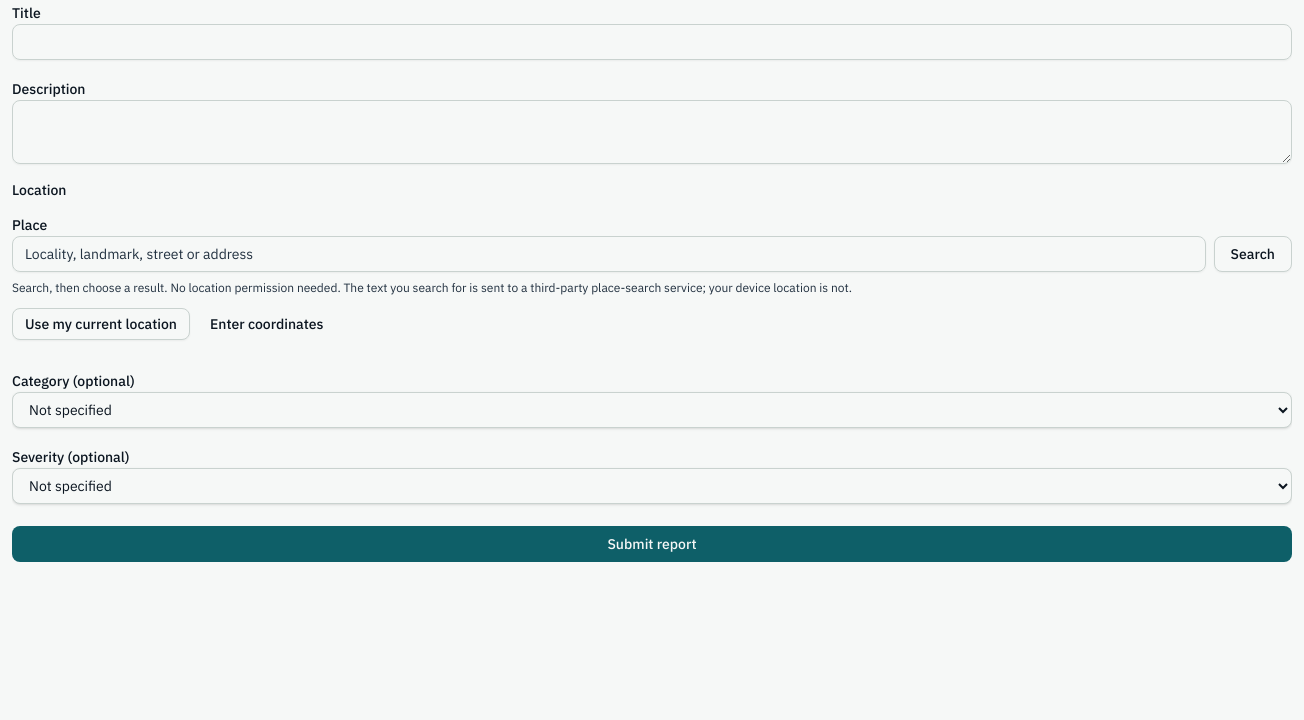
Test case: IssueReportForm › API/domain failure: shows message, preserves input
In the field labelled "Title": (652, 42) x1=12 y1=24 x2=1292 y2=60, type "Leak"
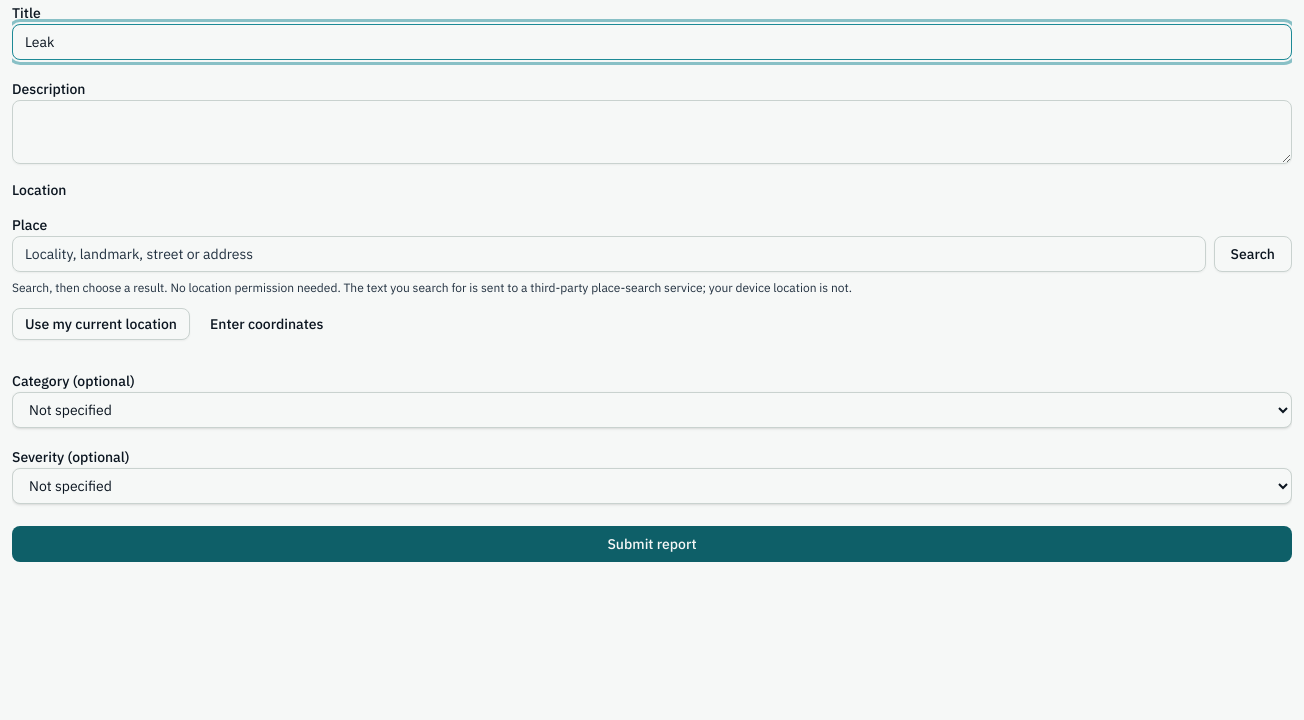
In the text box labelled "Description": (652, 132) x1=12 y1=100 x2=1292 y2=164, type "Pipe burst"
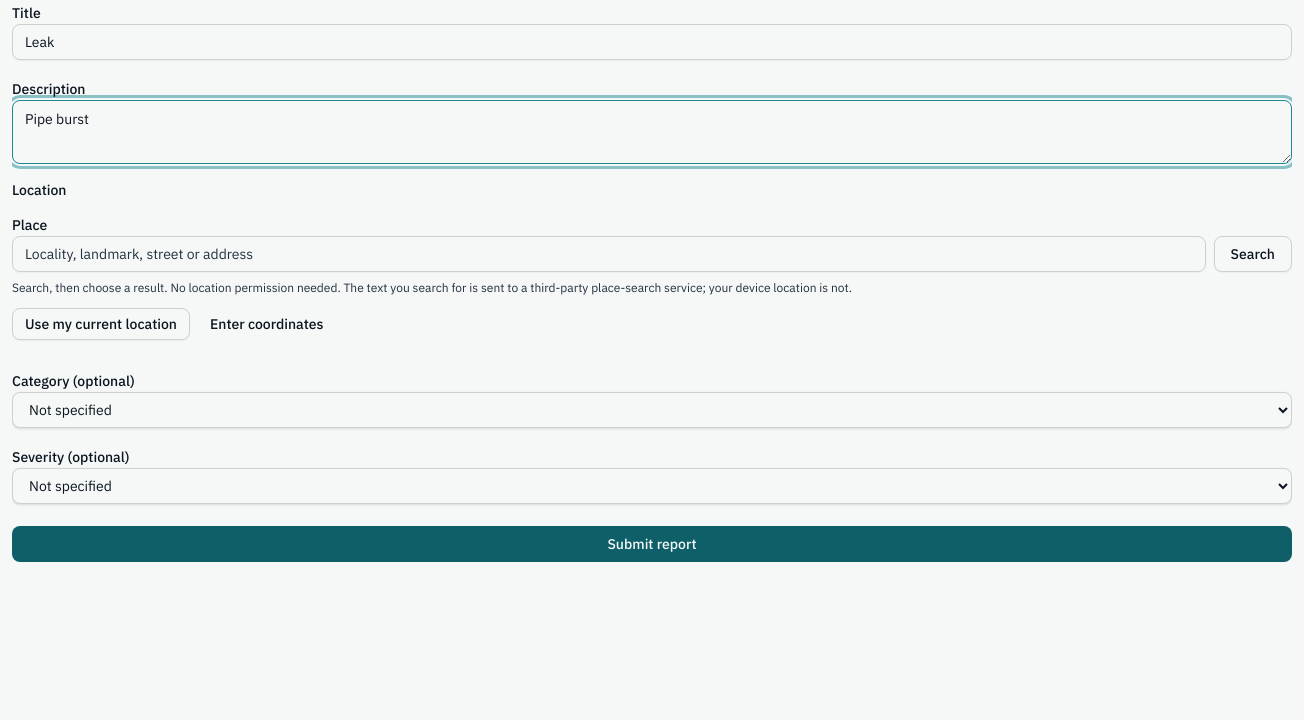
Click the button "Enter coordinates": (267, 324) x1=198 y1=308 x2=336 y2=340
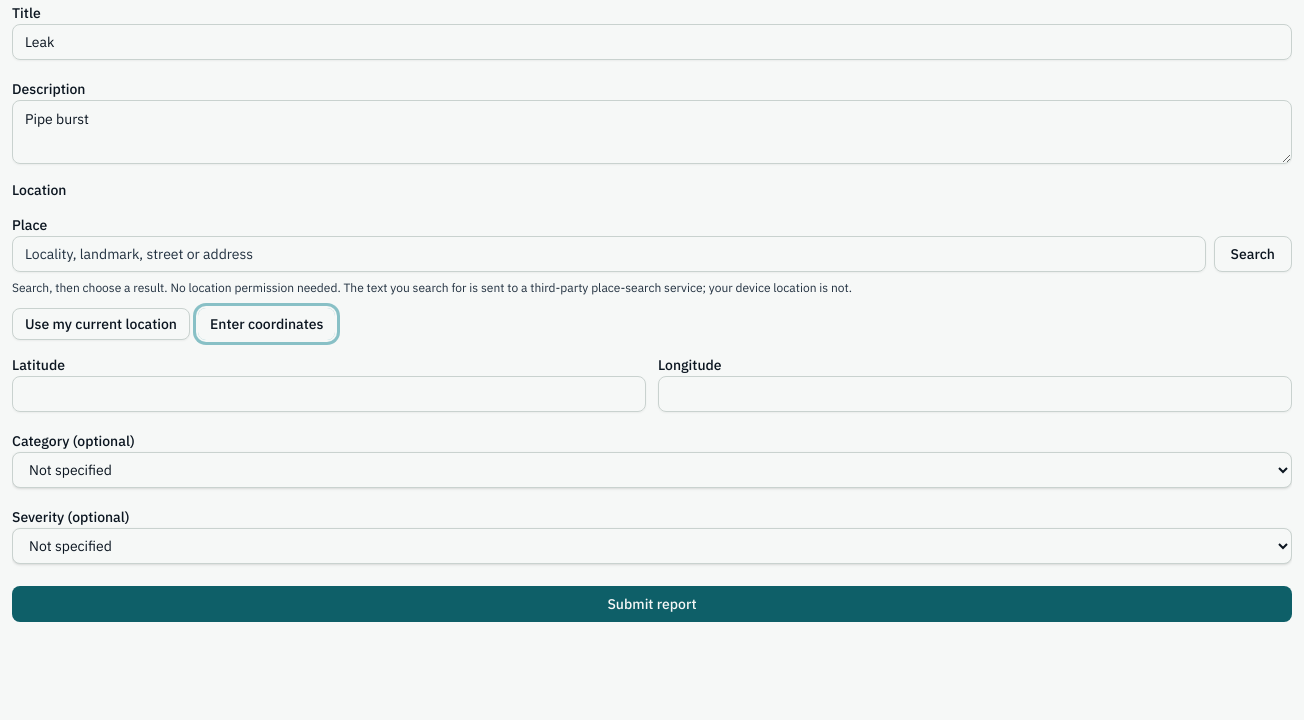
In the field labelled "Latitude": (329, 394) x1=12 y1=376 x2=646 y2=412, type "12.9"
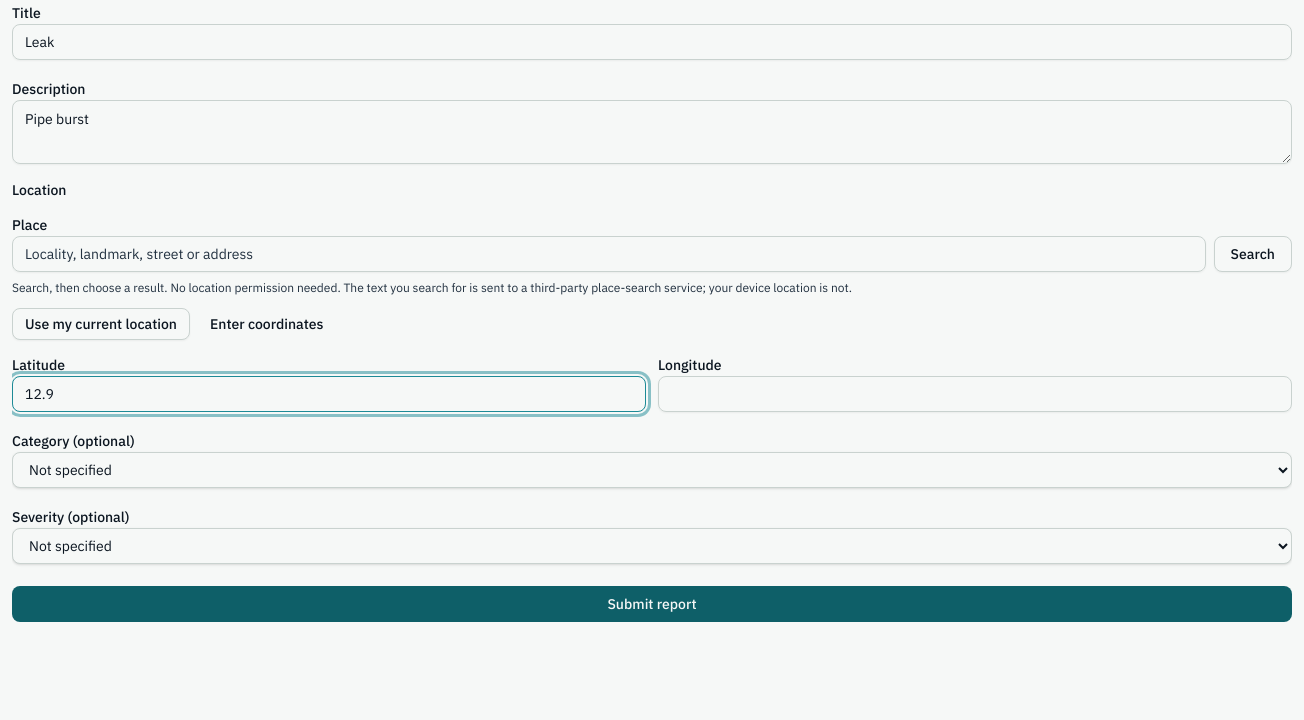
In the field labelled "Longitude": (975, 394) x1=658 y1=376 x2=1292 y2=412, type "77.5"
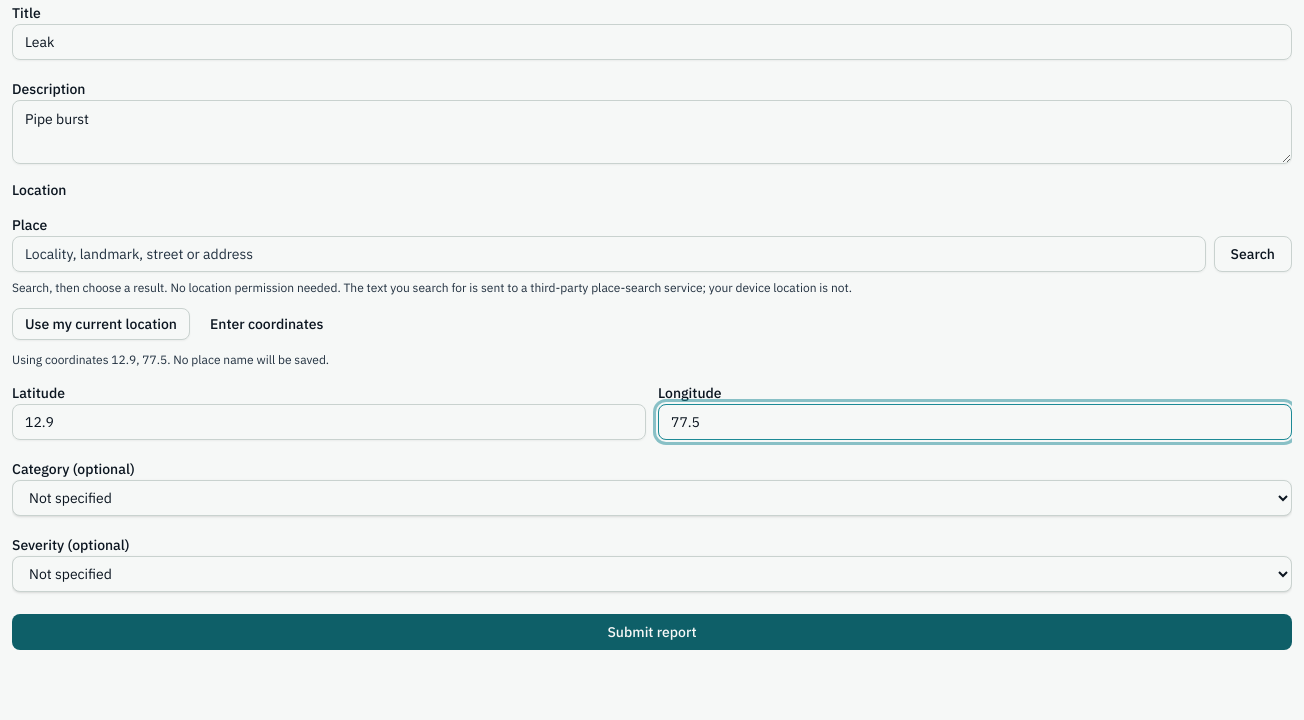
Click the button "Submit report": (652, 632) x1=12 y1=614 x2=1292 y2=650
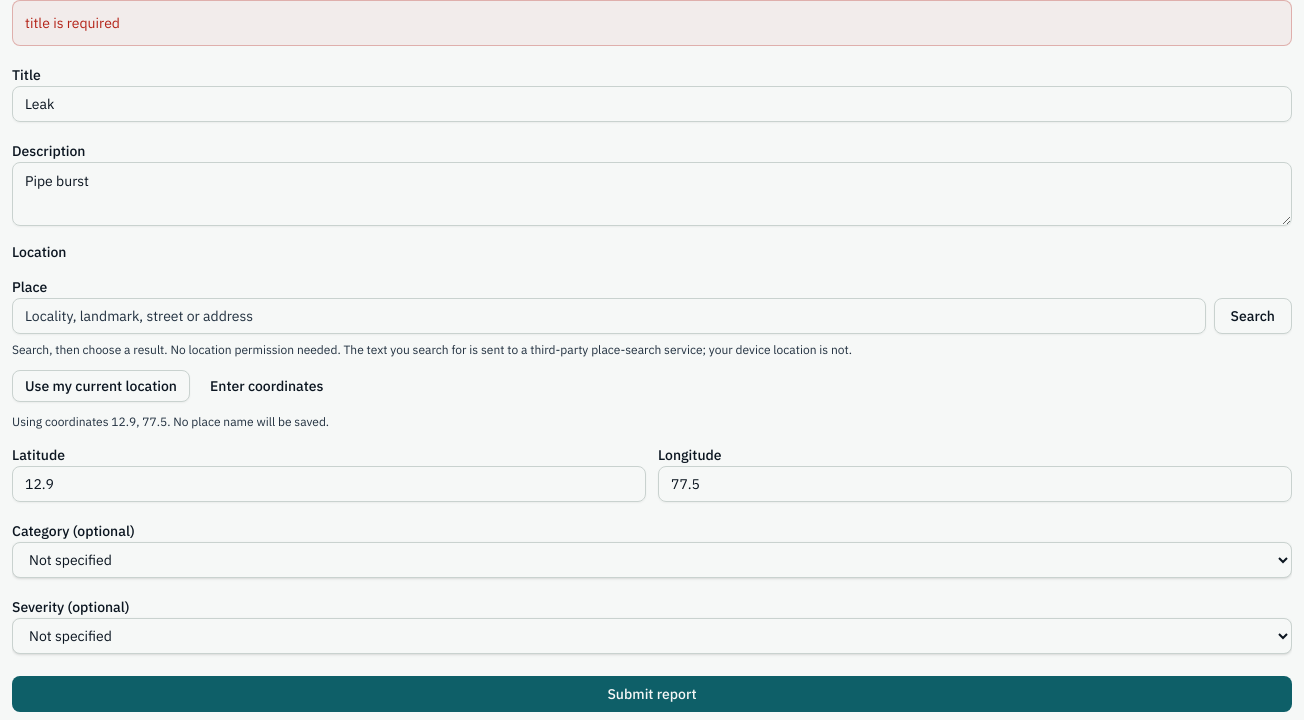
Expected: the message "title is required" is shown, x1=12 y1=0 x2=1292 y2=46
